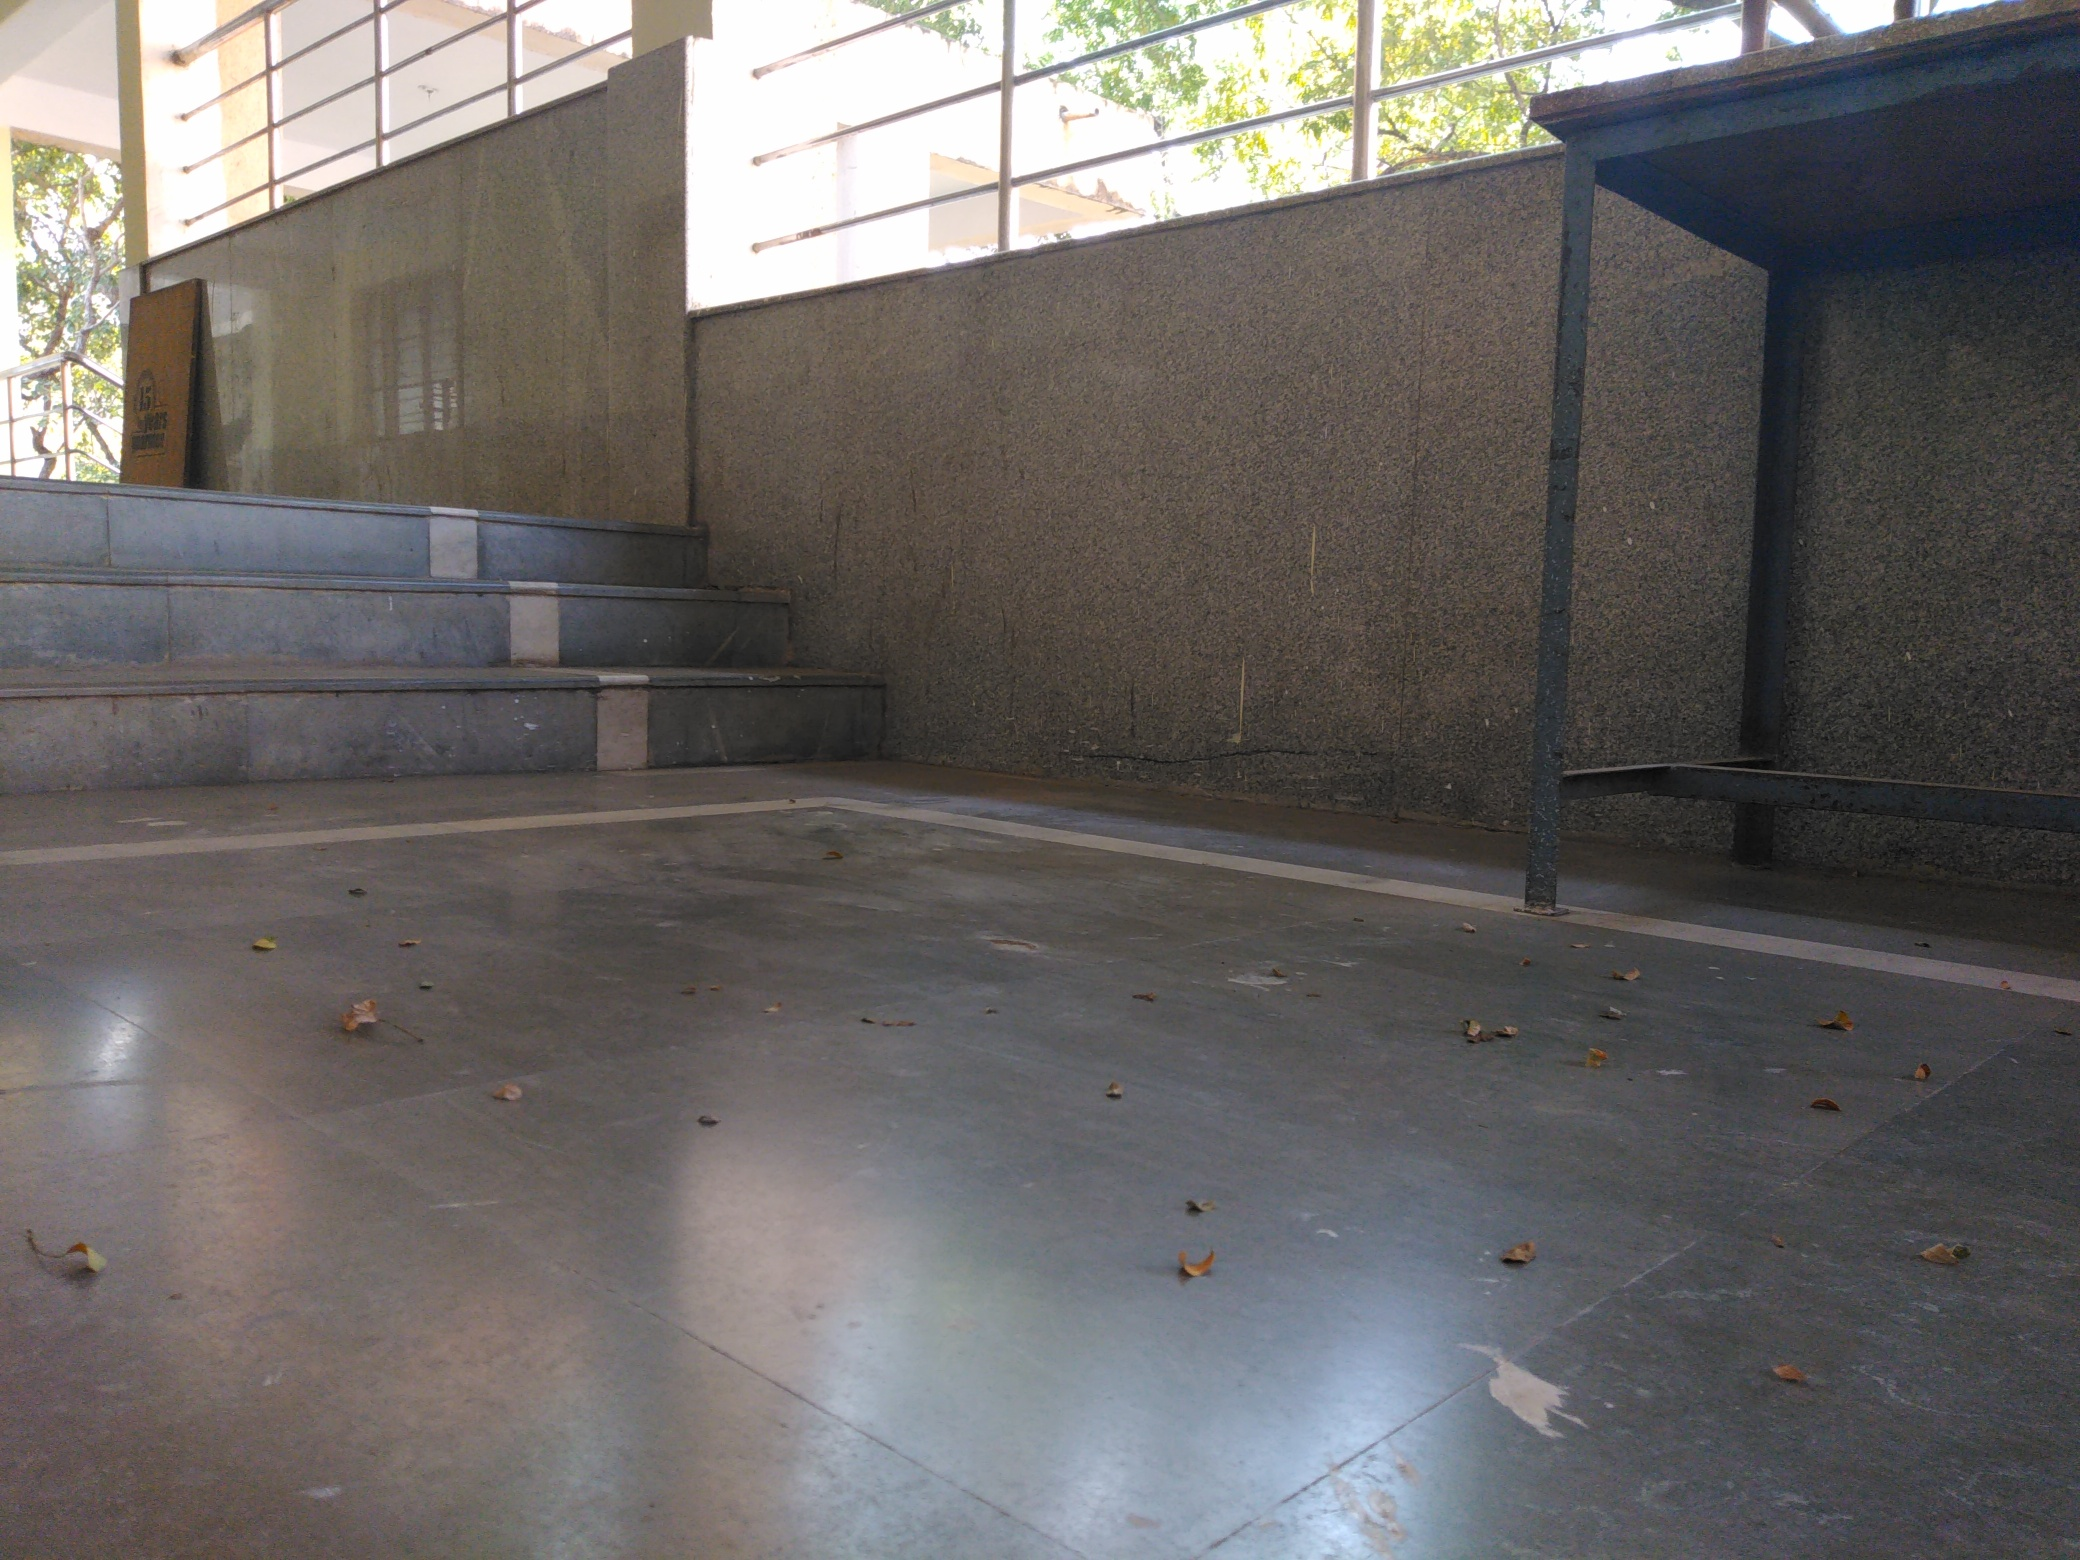stairs_up: (46, 447, 766, 816)
